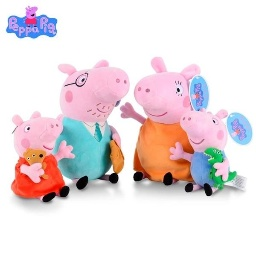Peppa: (10, 110, 74, 203)
